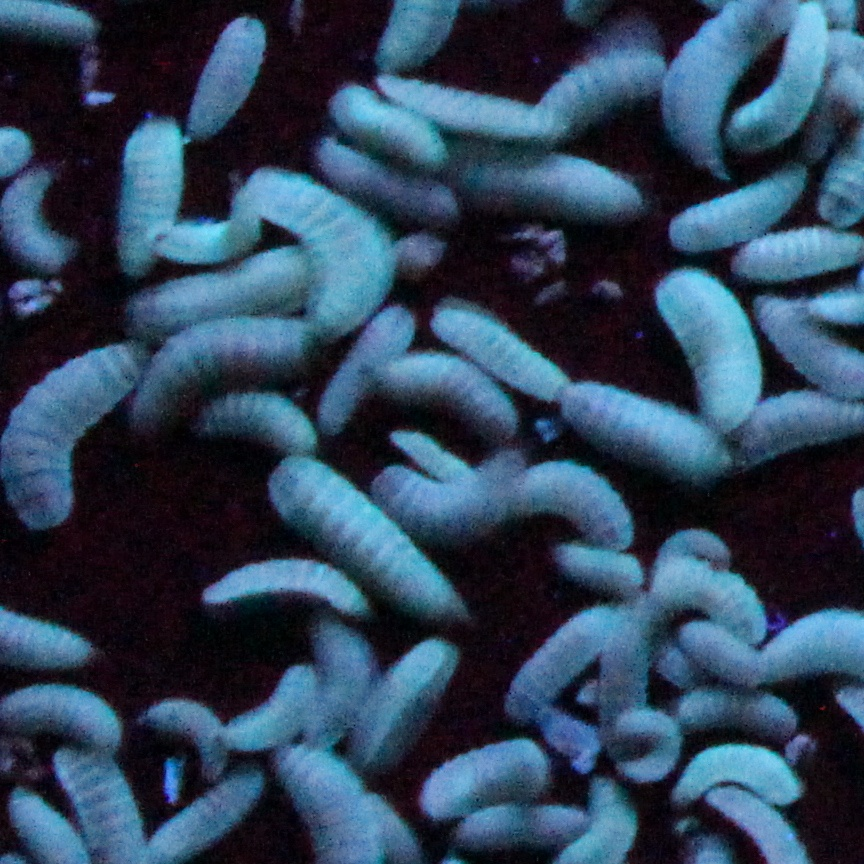larve: (263, 445, 463, 625), (6, 350, 139, 536), (248, 168, 390, 319), (647, 266, 770, 438), (557, 381, 742, 475), (373, 67, 583, 147), (428, 294, 569, 407), (660, 157, 809, 257), (379, 343, 525, 442), (190, 547, 377, 619), (501, 604, 611, 725), (111, 110, 186, 278), (424, 726, 554, 822), (663, 732, 811, 814), (365, 632, 455, 765), (186, 8, 270, 139), (326, 85, 449, 172), (140, 680, 244, 780), (547, 537, 650, 594)
